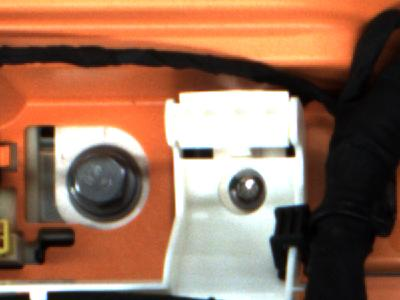nut_b: (65, 138, 149, 229)
